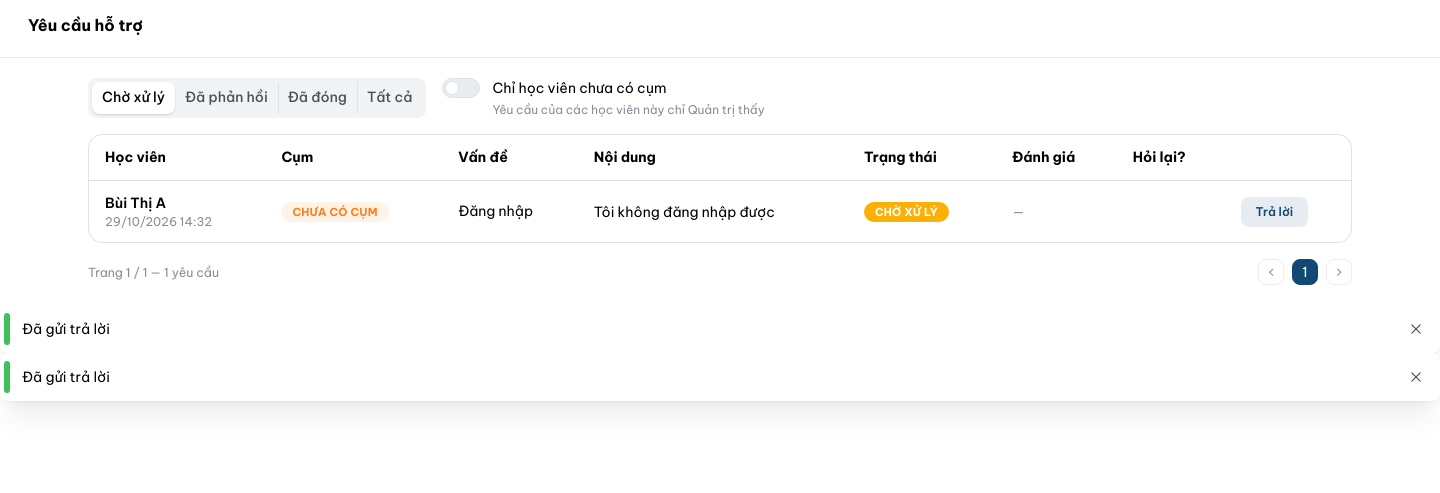
Test case: AdminYeuCauHoTro (M8) › tab "Tất cả" hiện cả ticket chờ xử lý lẫn đã đóng
The width and height of the screenshot is (1440, 493).
Expected: the text "Tôi không đăng nhập được" is shown, [594, 203, 775, 221]
Expected: the text "Sai tên lớp" is not shown
Click the radio button labelled "Tất cả". click: (390, 97)
box: [367, 88, 412, 106]
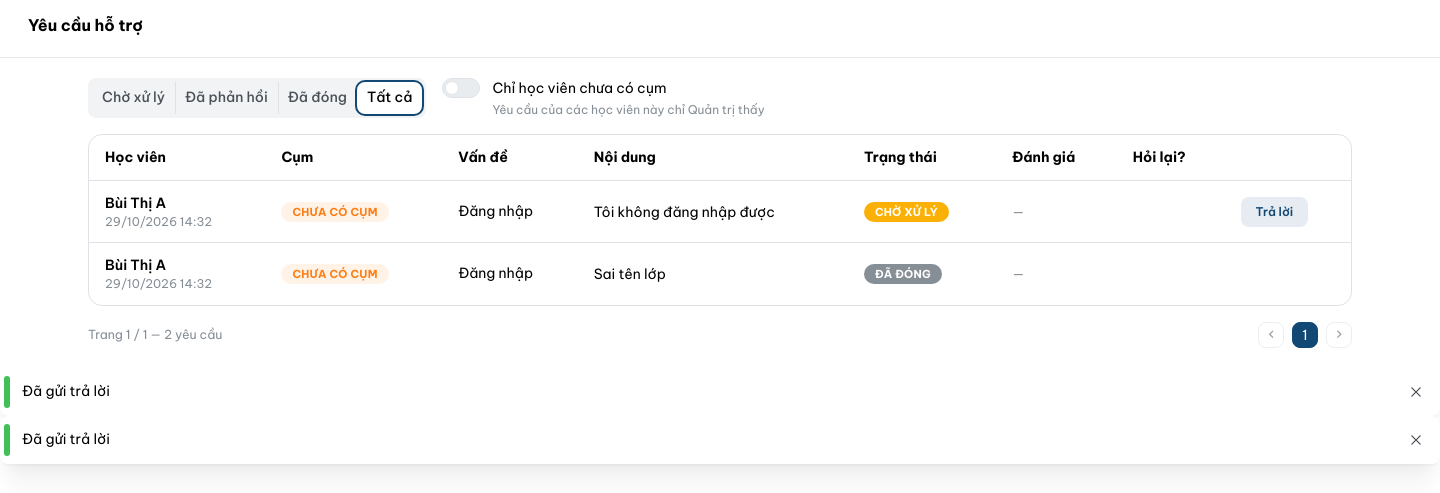
Expected: the text "Tôi không đăng nhập được" is shown, [594, 203, 775, 221]
Expected: the text "Sai tên lớp" is shown, [594, 265, 666, 283]
